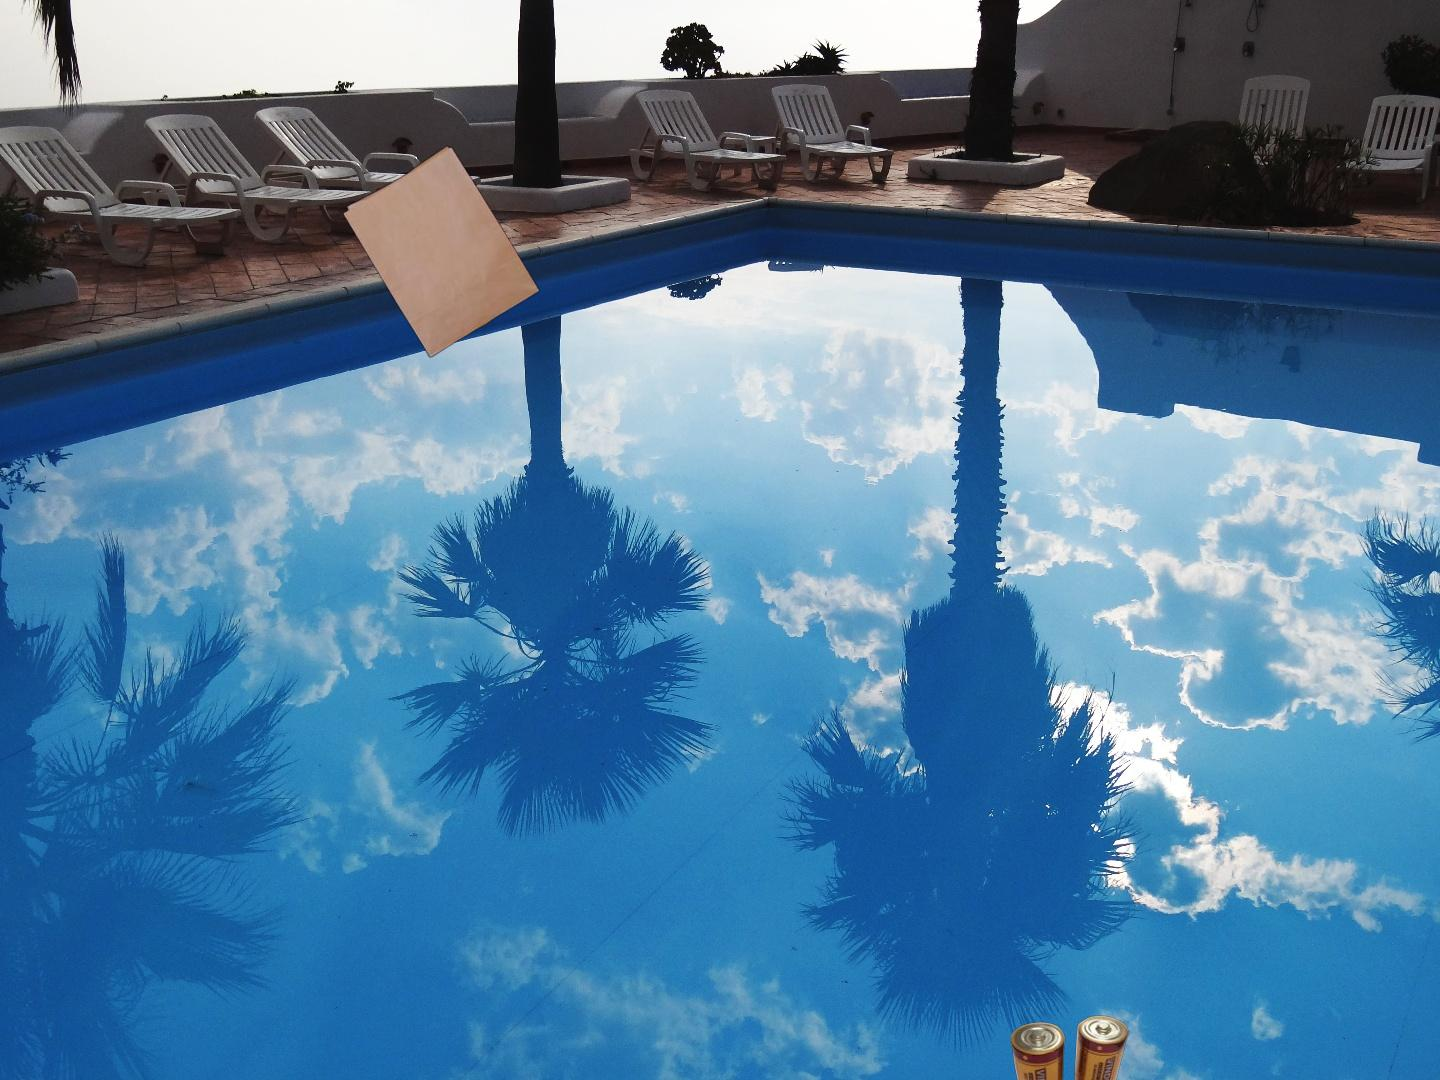battery: (1011, 1013, 1130, 1080)
paper-bag: (340, 144, 543, 360)
